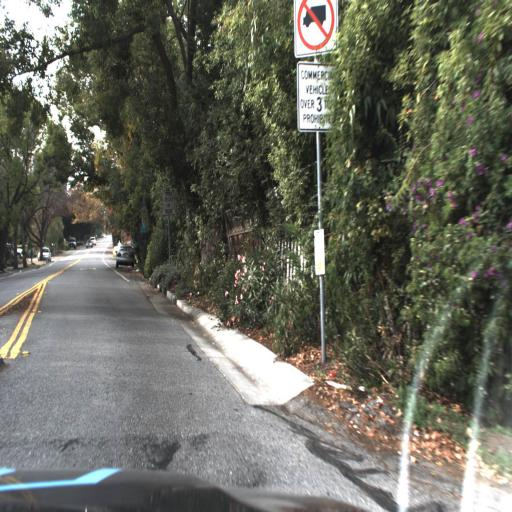car: (115, 238, 142, 273), (114, 238, 138, 271)
